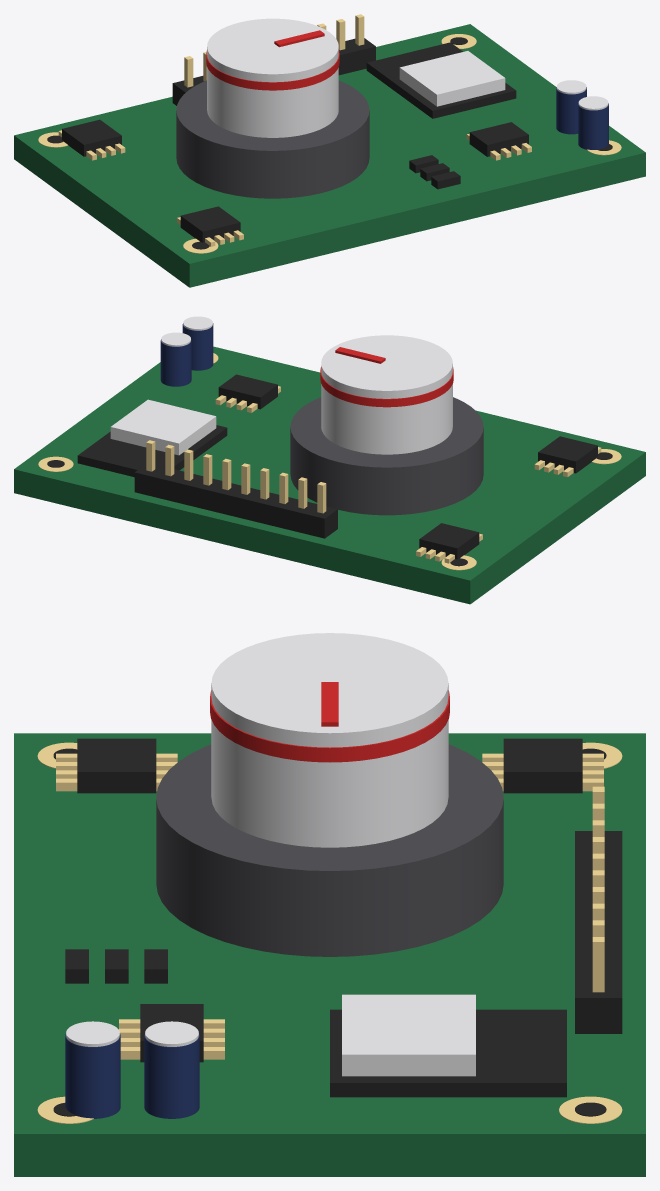
Rendered from haptic-knob-pcb-placeholder.glb.
3 views of the same model, one above another, from view 1: azimuth 30°, elevation 25°; view 2: azimuth 150°, elevation 25°; view 3: azimuth 270°, elevation 25° (orthographic). The views are drawn at different scales.
Visible parts, largest first — view 1: HapticKnobPCBPlaceholder; view 2: HapticKnobPCBPlaceholder; view 3: HapticKnobPCBPlaceholder.
Boxes of the visible parts, x1,y1,x2,y2 form: HapticKnobPCBPlaceholder: [14, 14, 645, 287]; HapticKnobPCBPlaceholder: [14, 316, 645, 604]; HapticKnobPCBPlaceholder: [14, 633, 645, 1176].
Size of the model in its own units: 1.2 by 0.348 by 0.8.
